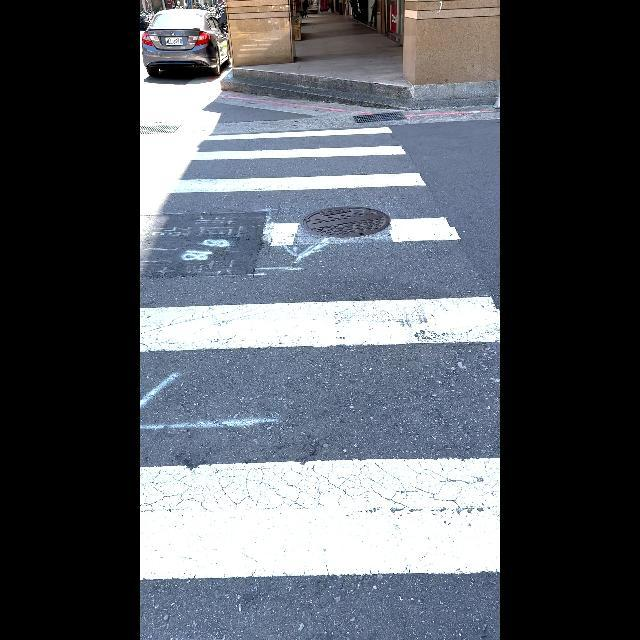sidewalk: (140, 133, 500, 578)
